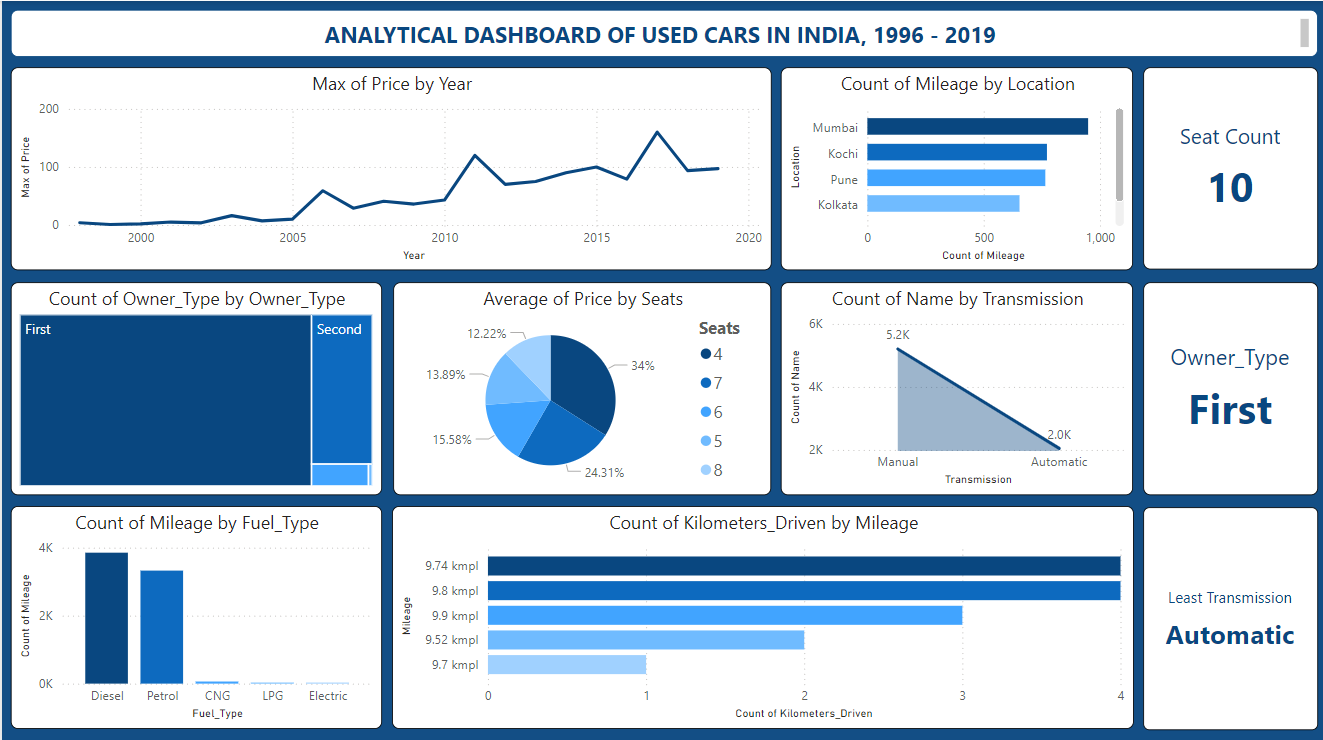

The dashboard page shown, as its layout file describes it:
{"tool":"powerbi","page":{"name":"Page 1","canvas":[1280,720],"ordinal":0},"visuals":[{"type":"textbox","box":[8.4,8.4,1261.9,45.8],"z":0},{"type":"lineChart","fields":{"Y":["Max(used_cars_data.Price)"],"Category":["used_cars_data.Year"]},"box":[8.2,64.5,734.1,196.2],"z":1000},{"type":"treemap","fields":{"Values":["CountNonNull(used_cars_data.Owner_Type)"],"Group":["used_cars_data.Owner_Type"]},"box":[8.2,271.7,358.1,205.8],"z":2000},{"type":"clusteredBarChart","fields":{"Category":["used_cars_data.Mileage"],"Y":["CountNonNull(used_cars_data.Kilometers_Driven)"]},"box":[376,487.1,716.3,215.4],"z":3000},{"type":"clusteredColumnChart","fields":{"Category":["used_cars_data.Fuel_Type"],"Y":["CountNonNull(used_cars_data.Mileage)"]},"box":[8.2,487.1,358.1,215.4],"z":4000},{"type":"barChart","fields":{"Y":["CountNonNull(used_cars_data.Mileage)"],"Category":["used_cars_data.Location"]},"box":[752,64.5,340.3,196.2],"z":5000},{"type":"pieChart","fields":{"Category":["used_cars_data.Seats"],"Y":["Avg(used_cars_data.Price)"]},"box":[377.4,271.7,365,205.8],"z":6000},{"type":"areaChart","fields":{"Y":["CountNonNull(used_cars_data.Name)"],"Category":["used_cars_data.Transmission"]},"box":[752,271.7,340.3,205.8],"z":7000},{"type":"cardVisual","fields":{"Data":["Count(used_cars_data.Seats)"]},"box":[1101.9,64.5,168.8,194.9],"z":8000},{"type":"cardVisual","fields":{"Data":["Min(used_cars_data.Owner_Type)"]},"box":[1101.9,271.7,168.8,205.8],"z":9000},{"type":"cardVisual","fields":{"Data":["Min(used_cars_data.Transmission)"]},"box":[1101.9,488.5,168.8,215.4],"z":10000}]}

Visuals, with their boxes in screenshot pixels (x1, y1, x2, y2), scaled from the page's 1280x720 canvas onto the 1323x740 screenshot:
textbox: detection(9, 9, 1313, 56)
lineChart - Max(used_cars_data.Price) x used_cars_data.Year: detection(8, 66, 767, 268)
treemap - CountNonNull(used_cars_data.Owner_Type) x used_cars_data.Owner_Type: detection(8, 279, 379, 491)
clusteredBarChart - used_cars_data.Mileage x CountNonNull(used_cars_data.Kilometers_Driven): detection(389, 501, 1129, 722)
clusteredColumnChart - used_cars_data.Fuel_Type x CountNonNull(used_cars_data.Mileage): detection(8, 501, 379, 722)
barChart - CountNonNull(used_cars_data.Mileage) x used_cars_data.Location: detection(777, 66, 1129, 268)
pieChart - used_cars_data.Seats x Avg(used_cars_data.Price): detection(390, 279, 767, 491)
areaChart - CountNonNull(used_cars_data.Name) x used_cars_data.Transmission: detection(777, 279, 1129, 491)
cardVisual - Count(used_cars_data.Seats): detection(1139, 66, 1313, 267)
cardVisual - Min(used_cars_data.Owner_Type): detection(1139, 279, 1313, 491)
cardVisual - Min(used_cars_data.Transmission): detection(1139, 502, 1313, 723)
